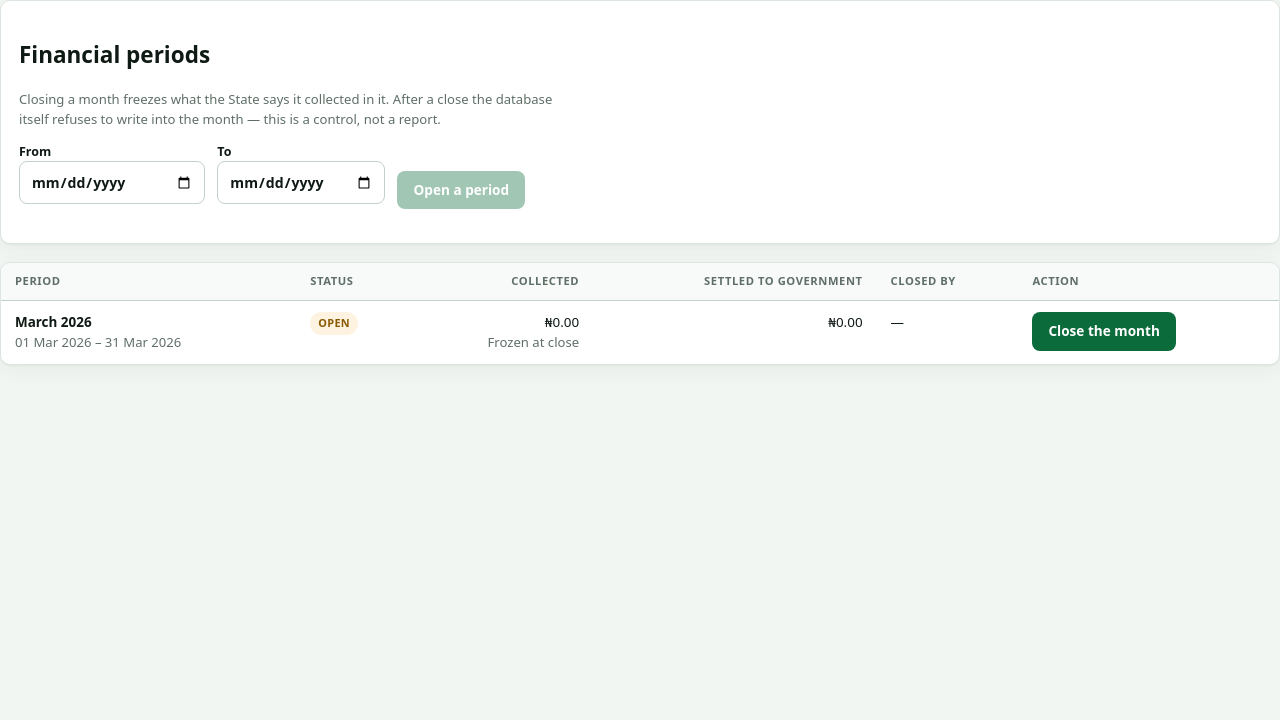
closing a month you cannot see › still asks for one when the month is known to hold unresolved items
The image size is (1280, 720).
What coordinates should you click on to do the following:
click the button "Close the month"
I would click on:
 (1104, 331)
Its box is left=1032, top=312, right=1176, bottom=351.
(page scrolled)
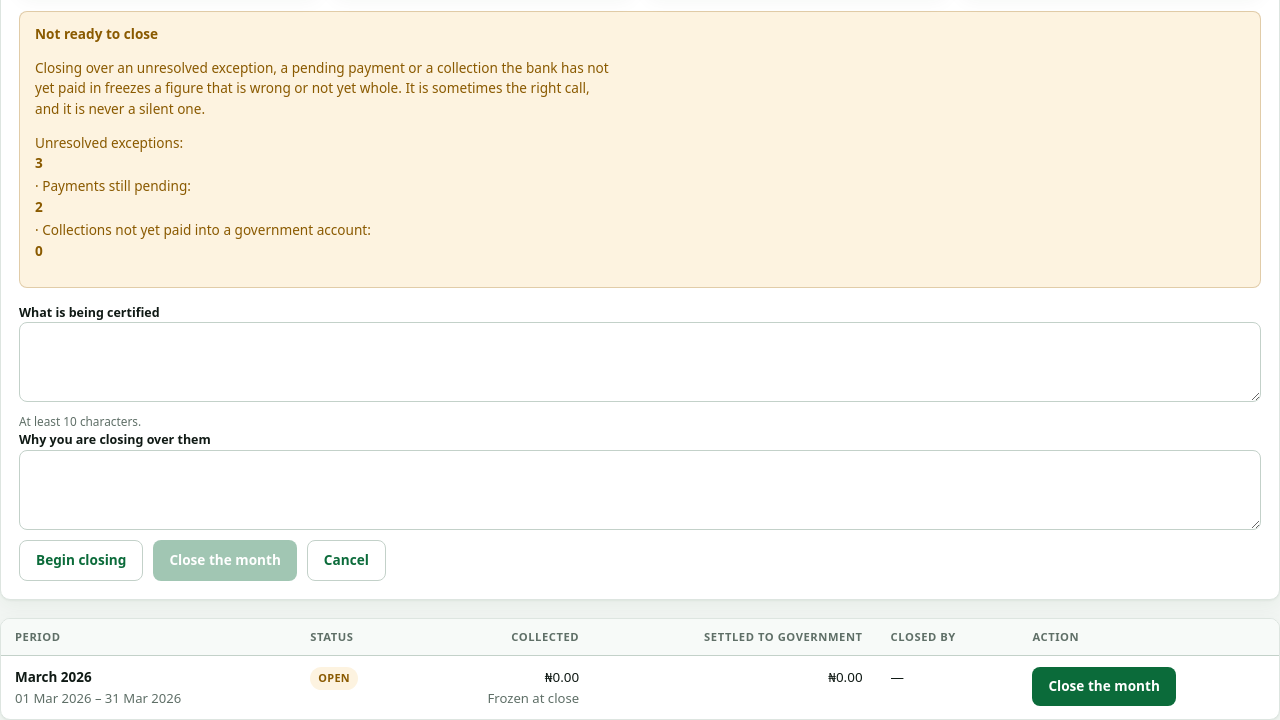
Expected: the text "Not ready to close" is shown, left=35, top=24, right=158, bottom=43
Expected: the text box labelled "Why you are closing over them" is shown, left=19, top=450, right=1261, bottom=530
